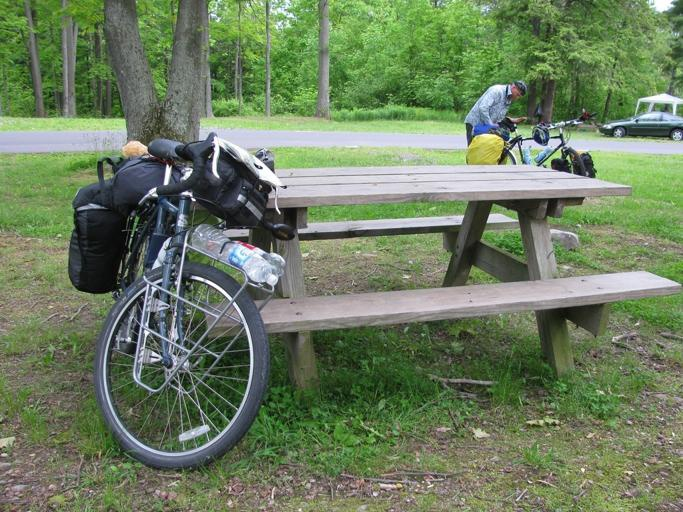non-vehicle: (96, 132, 298, 471), (466, 109, 596, 178)
